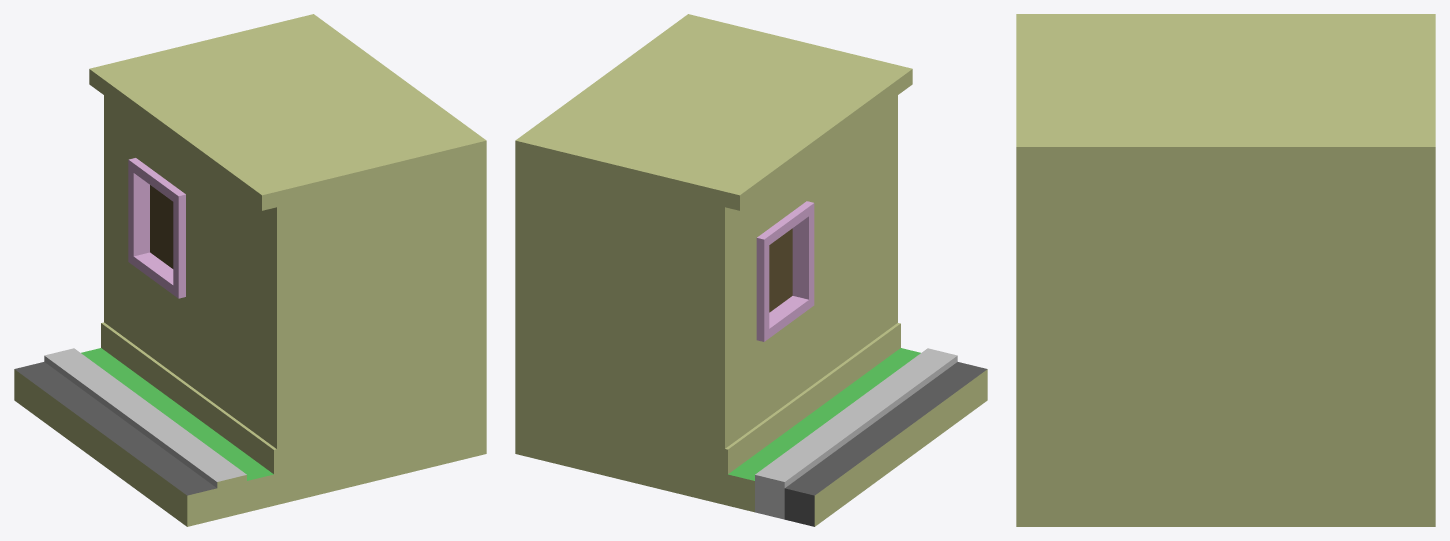
File: wall.fbx
3 views of the same model, side by side, from view 1: azimuth 30°, elevation 25°; view 2: azimuth 150°, elevation 25°; view 3: azimuth 270°, elevation 25° (orthographic). The views are drawn at different scales.
Visible parts, largest first — view 1: Cube; view 2: Cube; view 3: Cube.
Part boxes in pixels (left/top/right/bottom): Cube: left=14, top=14, right=486, bottom=526; Cube: left=515, top=14, right=987, bottom=526; Cube: left=1016, top=14, right=1435, bottom=526.
Size of the model in its own units: 200 by 200 by 200.
